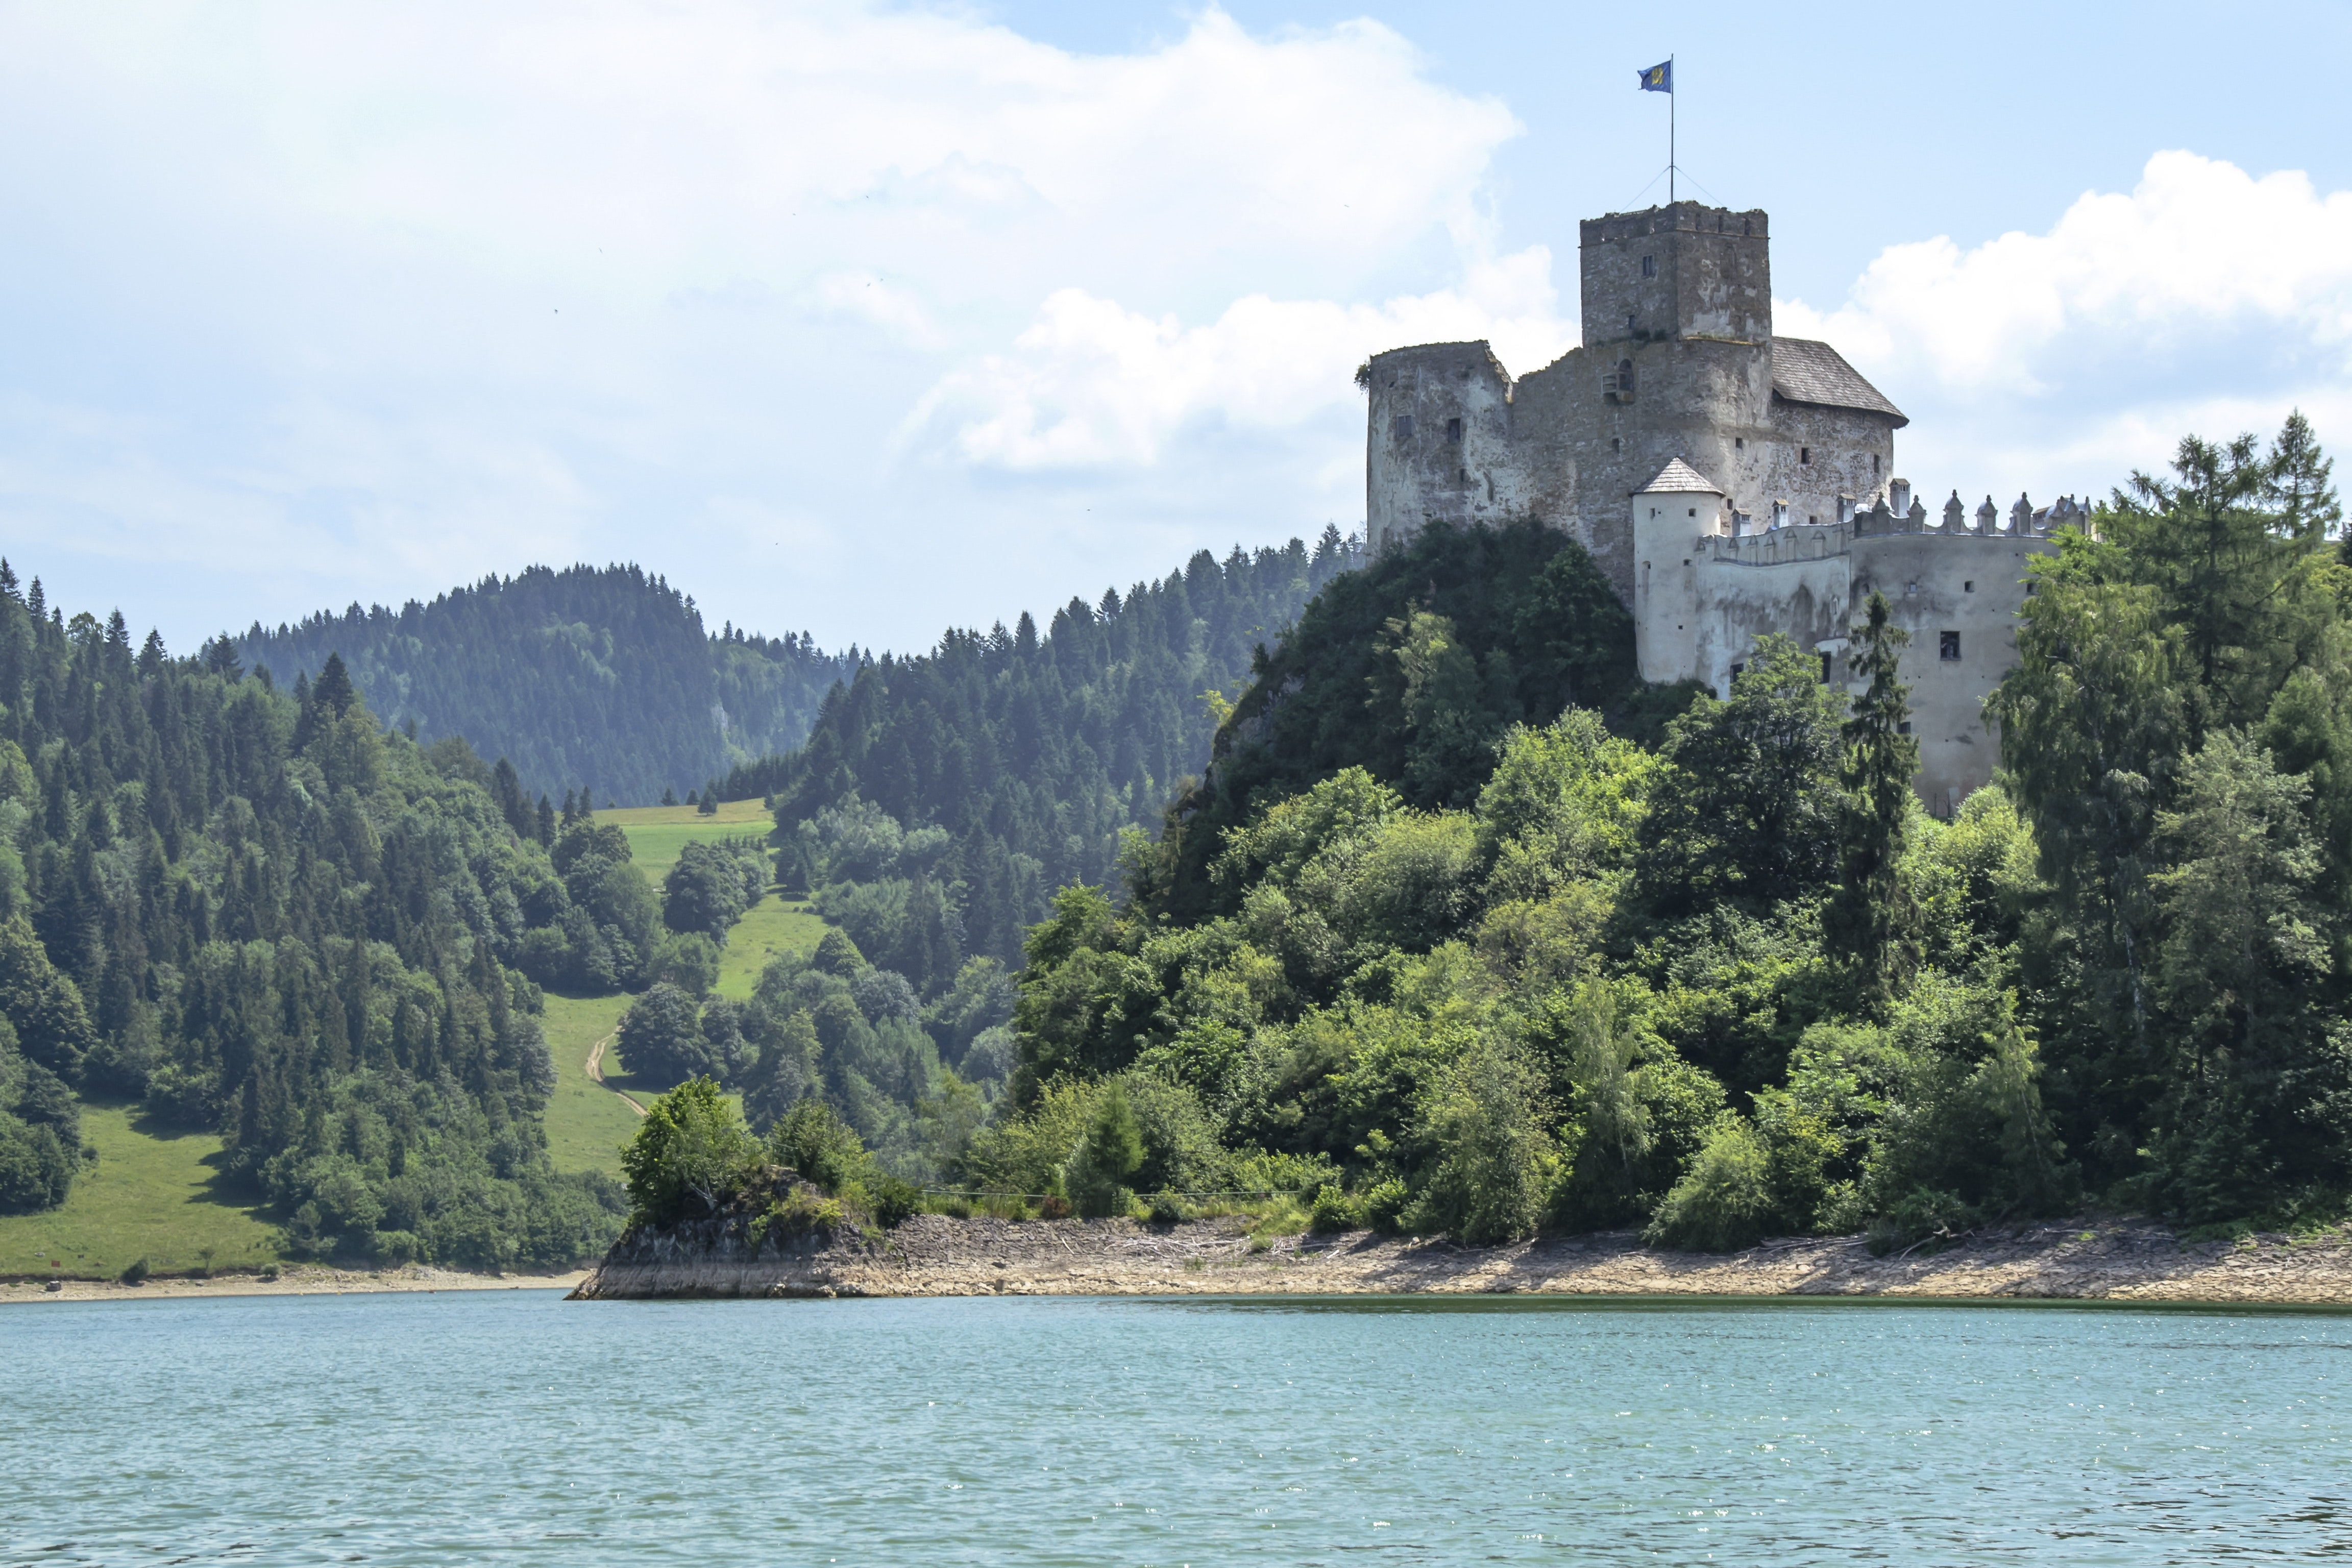Flag: (1631, 54, 1678, 100)
